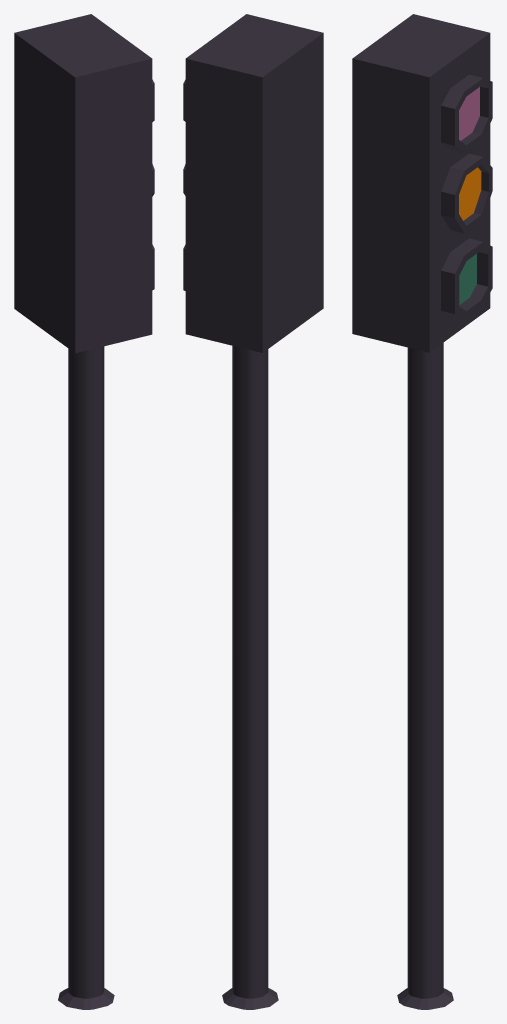
The model's file is Traffic_Light.fbx.
The picture shows the model from 3 angles, left to right: view 1: azimuth 30°, elevation 25°; view 2: azimuth 150°, elevation 25°; view 3: azimuth 330°, elevation 25°; orthographic projection.
Visible parts, largest first — view 1: Traffic_Light; view 2: Traffic_Light; view 3: Traffic_Light.
Part boxes in pixels (left/top/right/bottom): Traffic_Light: left=14, top=14, right=154, bottom=1009; Traffic_Light: left=183, top=14, right=323, bottom=1009; Traffic_Light: left=352, top=14, right=492, bottom=1009.
Bounding box in the file's own units: 0.3259 × 3.25 × 0.377.
